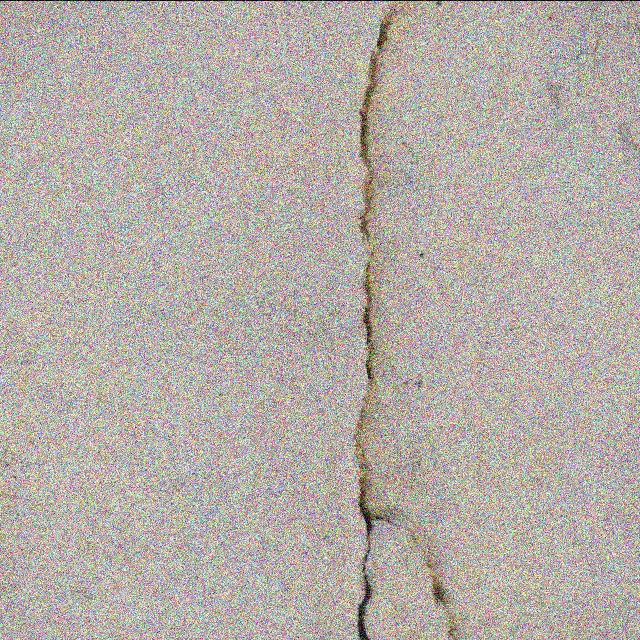SurfaceCrack: (322, 0, 477, 639)
